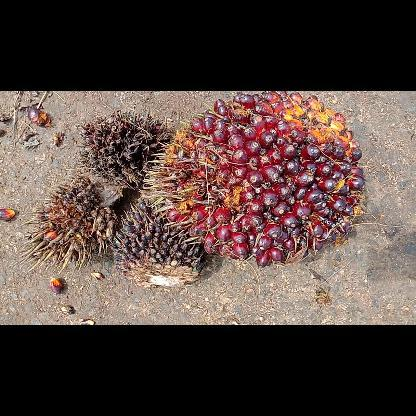TBS abnormal: (16, 176, 119, 280), (113, 199, 207, 289), (76, 107, 172, 189)
TBS masak: (144, 91, 364, 271)
